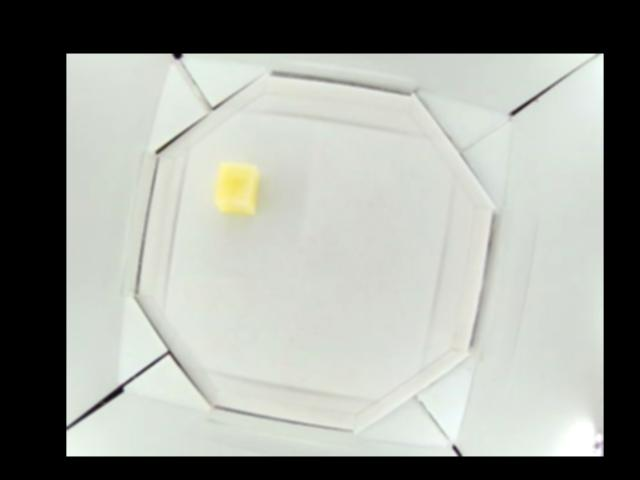Potato: (216, 166, 259, 216)
